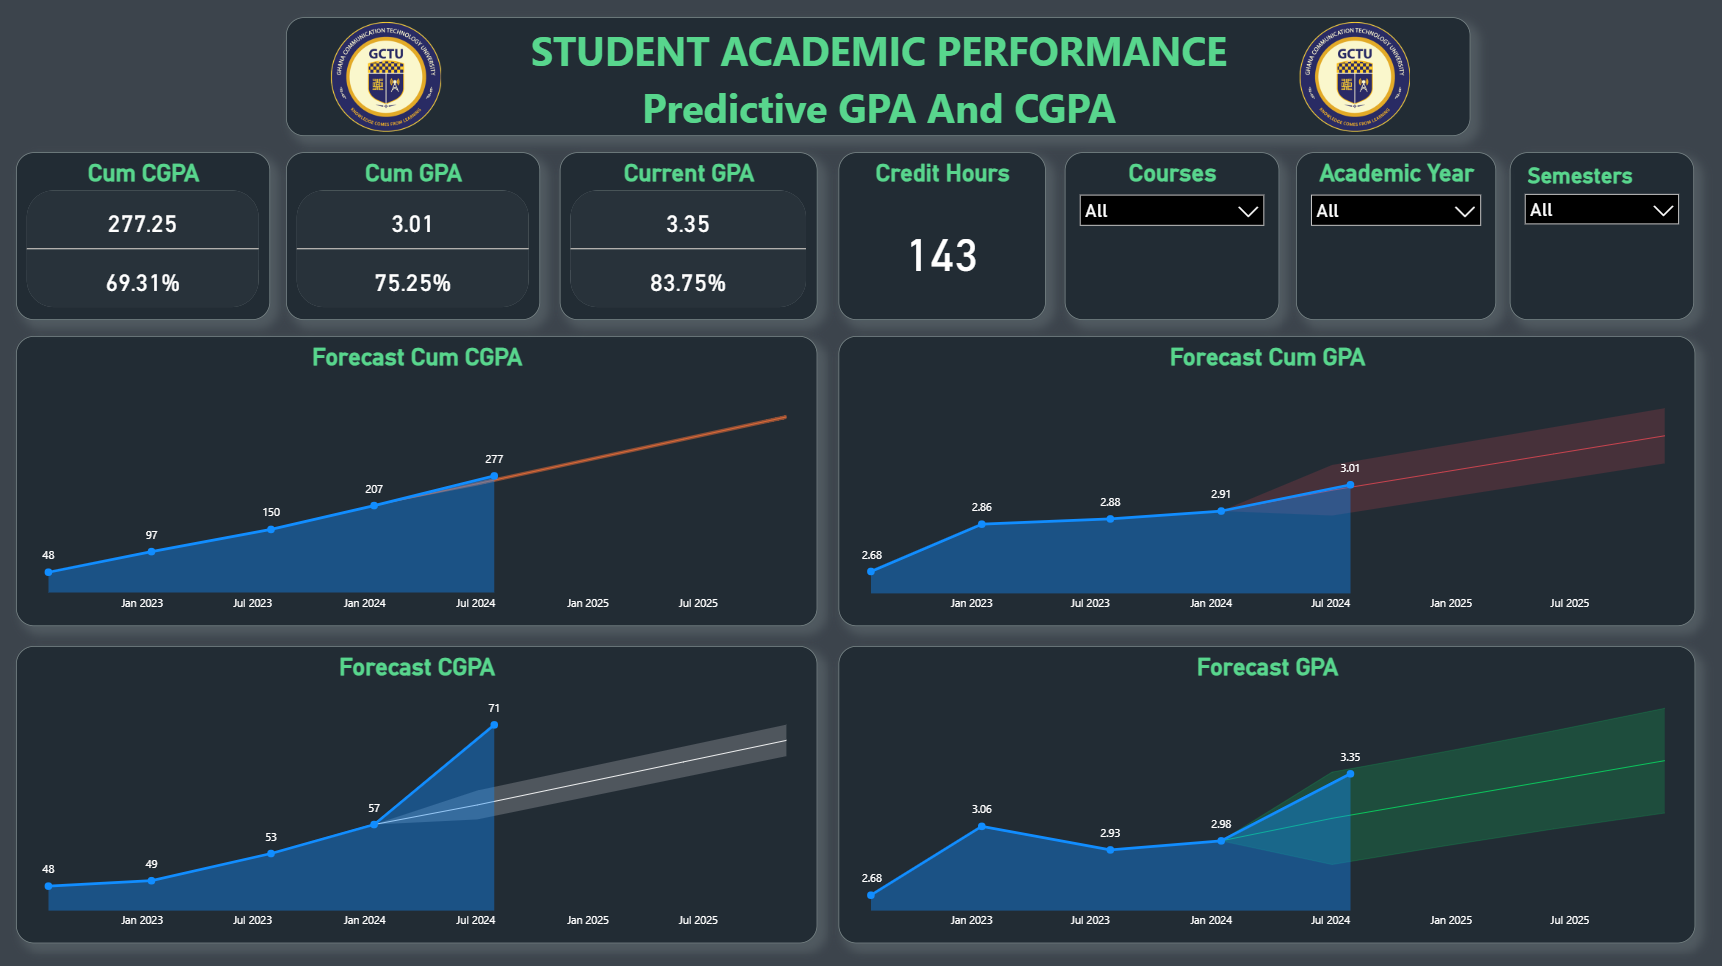

Layout of this report page (visuals, bound fields, positions):
{"tool":"powerbi","page":{"name":"Predictive Insights & Progression","canvas":[1920,1080],"ordinal":1},"visuals":[{"type":"lineChart","title":"Forecast Cum CGPA","fields":{"Category":["DateTable.Date"],"Y":["All Measures.Cum_CGPA"]},"box":[22,378,890,324],"z":0},{"type":"cardVisual","title":"Cum CGPA","fields":{"Data":["Table.Cum_CGPA","Table.Cum_CGPA %"]},"box":[22,174,282,186],"z":1000},{"type":"cardVisual","title":"Current GPA","fields":{"Data":["Table.Current GPA","Table.GPA %"]},"box":[626,174,286,186],"z":2000},{"type":"card","title":"Credit Hours","fields":{"Values":["Table.Total Crdit Hours"]},"box":[936,174,230,186],"z":3000},{"type":"slicer","fields":{"Values":["PROJECT_DIMESION.SemesterYear"]},"box":[1682.5,173.8,205,186.2],"z":4000},{"type":"lineChart","title":"Forecast GPA","fields":{"Category":["DateTable.Date"],"Y":["Table.Current GPA"]},"box":[936,716,952,336],"z":5000},{"type":"lineChart","title":"Forecast Cum GPA","fields":{"Category":["DateTable.Date"],"Y":["All Measures.Cum_GPA"]},"box":[936,378,952,324],"z":6000},{"type":"lineChart","title":"Forecast  CGPA","fields":{"Category":["DateTable.Date"],"Y":["All Measures.Current CGPA"]},"box":[22,716,890,336],"z":7000},{"type":"shape","title":"STUDENT ACADEMIC PERFORMANCE ","box":[378,24,1260,132],"z":8000},{"type":"image","box":[368,24,258,132],"z":9000},{"type":"slicer","title":"Courses","fields":{"Values":["GradeProjectFact.Courses_Tittle"]},"box":[1188,174,238,186],"z":10000},{"type":"slicer","title":"Academic Year","fields":{"Values":["PROJECT_DIMESION.Academic_Year"]},"box":[1444,174,222,186],"z":11000},{"type":"image","box":[1380,24,258,132],"z":12000},{"type":"cardVisual","title":"Cum GPA","fields":{"Data":["Table.Cum_GPA","Table.Cum_GPA %"]},"box":[322,174,282,186],"z":13000}]}

Visuals, with their boxes in screenshot pixels (x1, y1, x2, y2), scaled from the page's 1920x1080 canvas onto the 1722x966 screenshot:
"Forecast Cum CGPA" lineChart: 20:338:818:628
"Cum CGPA" cardVisual: 20:156:273:322
"Current GPA" cardVisual: 561:156:818:322
"Credit Hours" card: 839:156:1046:322
slicer - PROJECT_DIMESION.SemesterYear: 1509:155:1693:322
"Forecast GPA" lineChart: 839:640:1693:941
"Forecast Cum GPA" lineChart: 839:338:1693:628
"Forecast  CGPA" lineChart: 20:640:818:941
"STUDENT ACADEMIC PERFORMANCE " shape: 339:21:1469:140
image: 330:21:561:140
"Courses" slicer: 1065:156:1279:322
"Academic Year" slicer: 1295:156:1494:322
image: 1238:21:1469:140
"Cum GPA" cardVisual: 289:156:542:322
